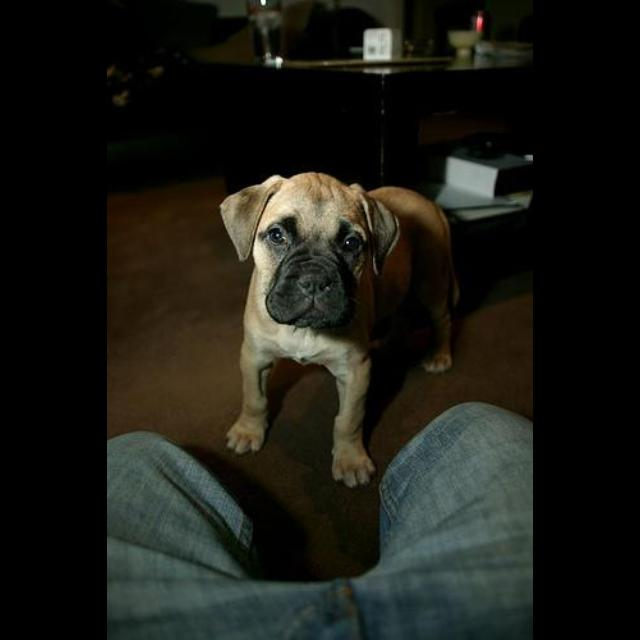bullmastiff: (219, 172, 462, 490)
